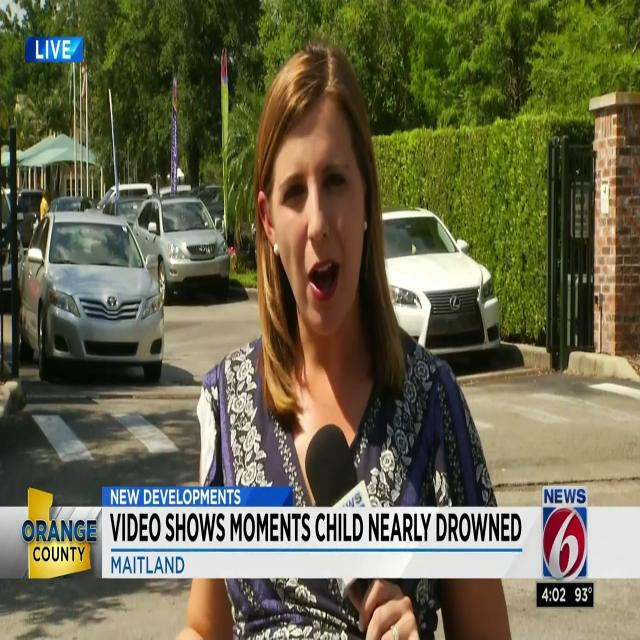adult: (201, 42, 512, 640)
